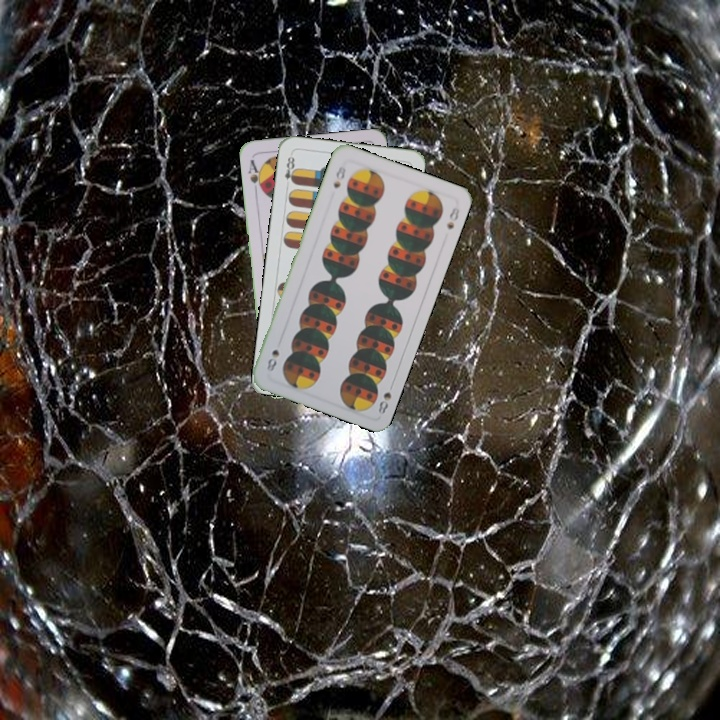E8: (280, 150, 299, 186)
S8: (374, 378, 397, 417), (329, 161, 348, 191)
SA: (244, 156, 265, 195)
